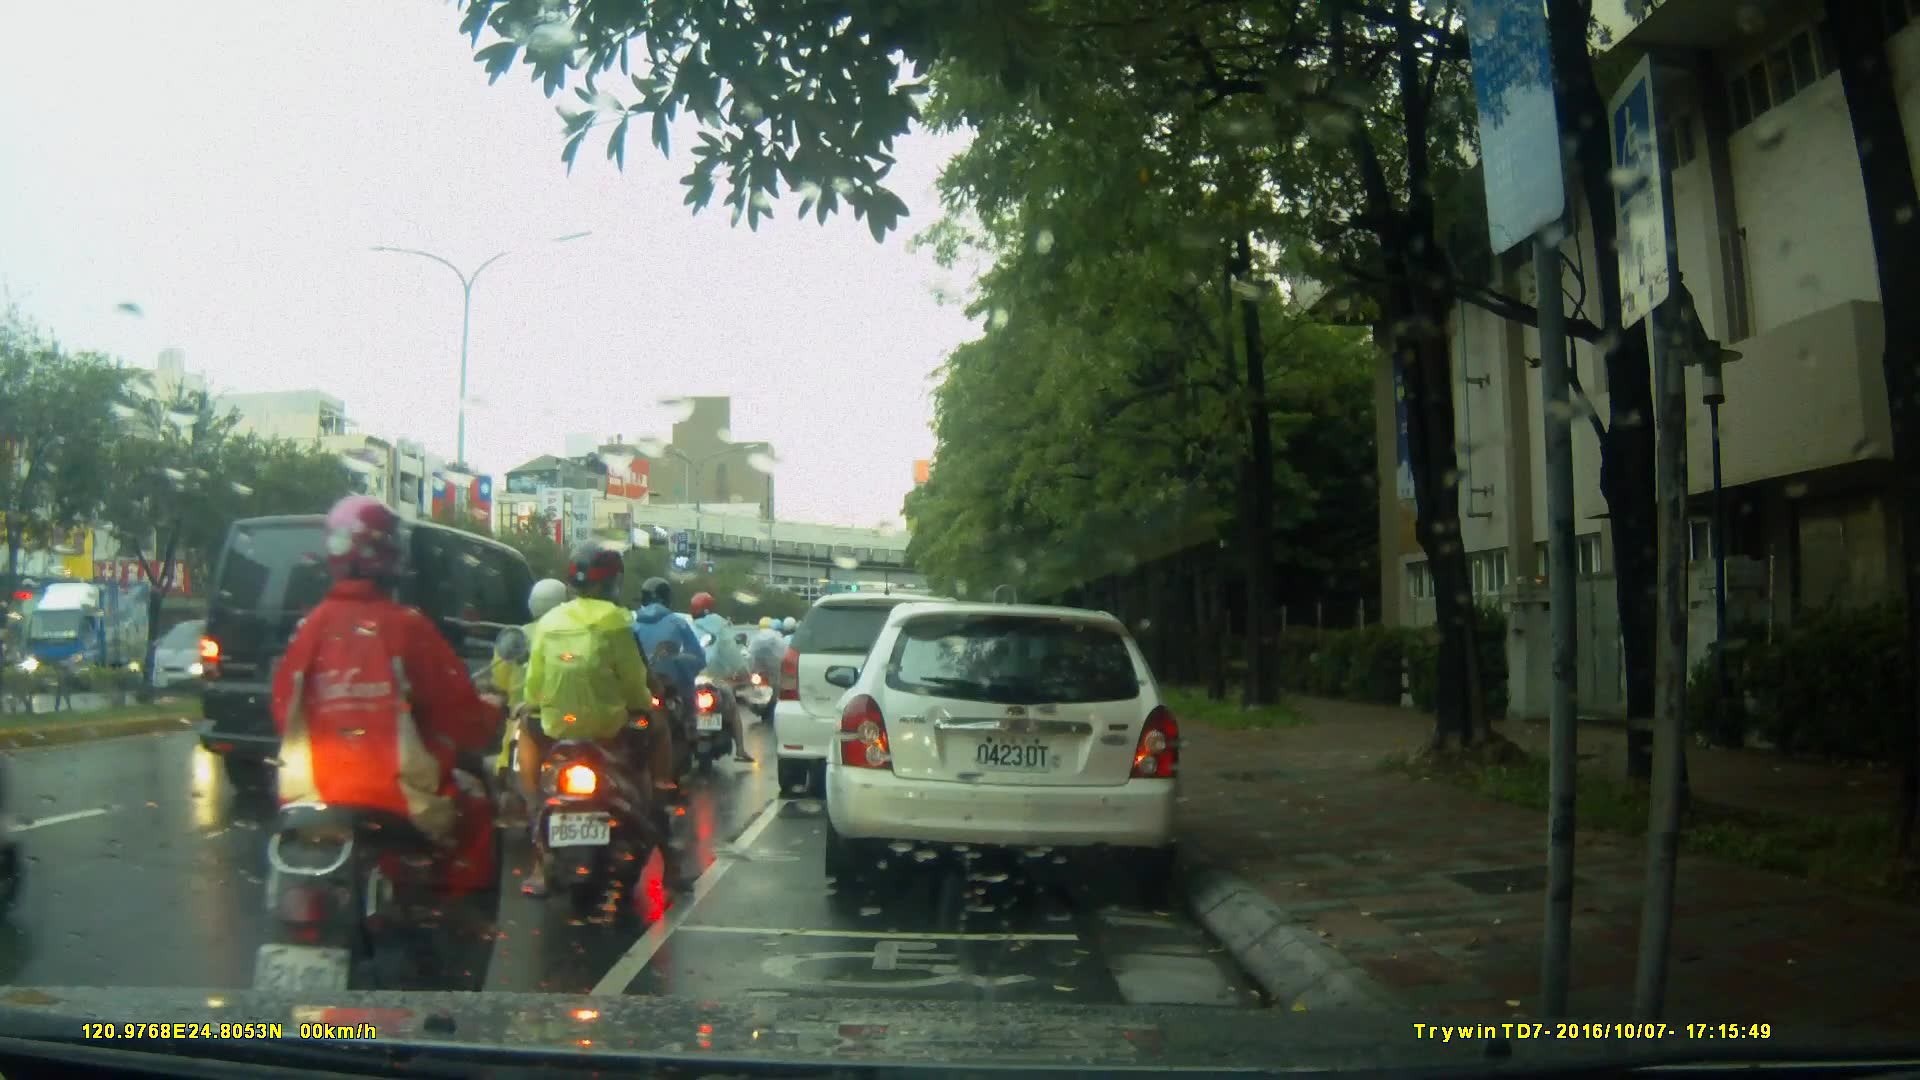rider: (254, 498, 527, 1034), (507, 539, 687, 915), (509, 582, 623, 866), (616, 579, 719, 798), (678, 592, 749, 769), (744, 612, 791, 724)
vehicle: (185, 512, 589, 810), (822, 604, 1188, 883), (774, 595, 995, 802), (511, 606, 725, 756), (20, 576, 199, 697), (117, 613, 316, 711)
